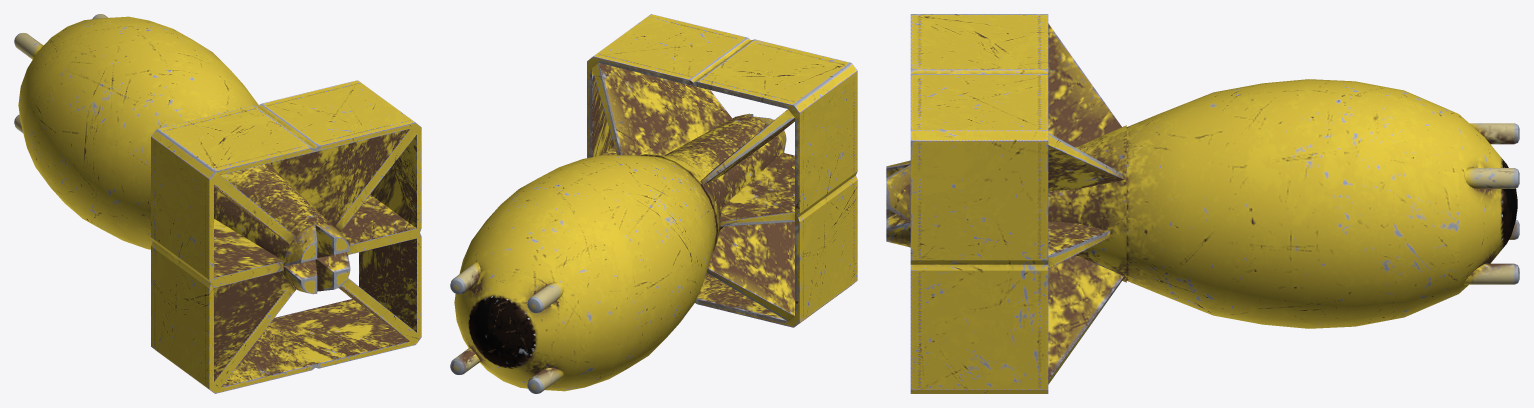
Rendered from fat_man.obj.
3 views of the same model, side by side, from view 1: azimuth 30°, elevation 25°; view 2: azimuth 150°, elevation 25°; view 3: azimuth 270°, elevation 25° (orthographic). The views are drawn at different scales.
Parts seen in each view (by area): view 1: NUKE_low; view 2: NUKE_low; view 3: NUKE_low.
Part boxes in pixels (x1,y1,x2,y2): NUKE_low: [14, 14, 421, 393]; NUKE_low: [450, 14, 857, 393]; NUKE_low: [886, 14, 1519, 393].
Size of the model in its own units: 2.59 by 2.59 by 5.62.
